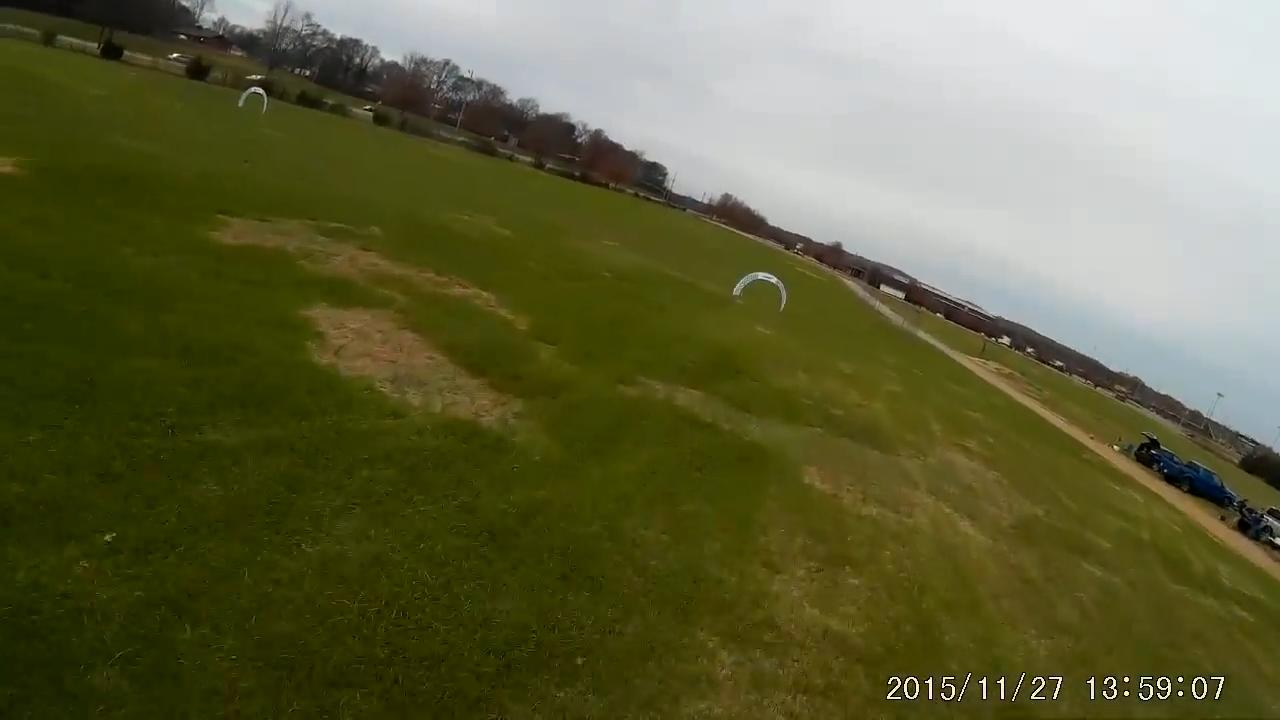gate: (733, 270, 788, 318)
